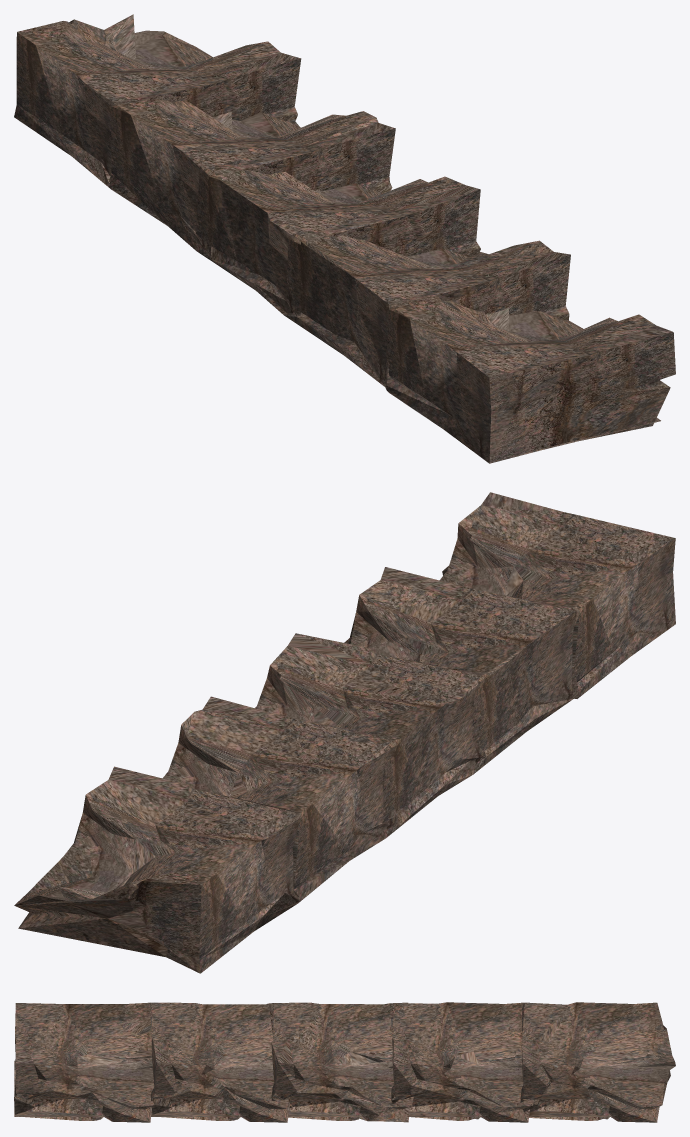
The model's file is stone_track.glb.
The picture shows the model from 3 angles, top to bottom: view 1: azimuth 30°, elevation 25°; view 2: azimuth 150°, elevation 25°; view 3: azimuth 270°, elevation 25°; orthographic projection. The views are drawn at different scales.
Visible parts, largest first — view 1: Cube.004; view 2: Cube.004; view 3: Cube.004.
Boxes of the visible parts, <box> form: Cube.004: <box>14,14,675,463</box>; Cube.004: <box>14,492,675,973</box>; Cube.004: <box>14,1002,675,1122</box>.
Bounding box in the file's own units: 0.5338 × 0.2495 × 2.36.
1 material, 1 textured.
